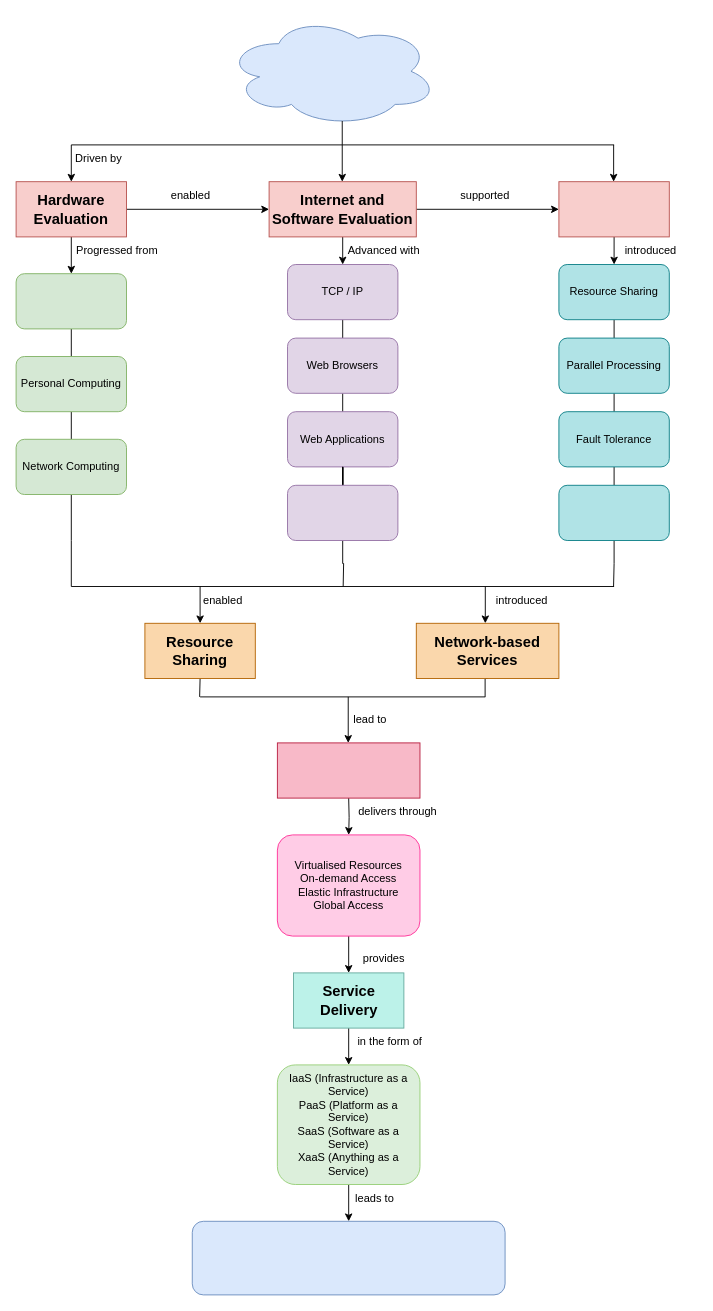
Some shapes in this 713 by 1311 pixel diagram are drawn without their labels. Each missing label, with the centre of its shape:
Cloud Computing: point 348,770
Distributed Data: point 613,512
Distributed Systems: point 613,209
Efficiient, Scalable and Accessible Cloud Devices: point 348,1257
Evaluation of Cloud Computing: point 331,70
Mainframe Computing: point 70,301
Web Services: point 342,512
